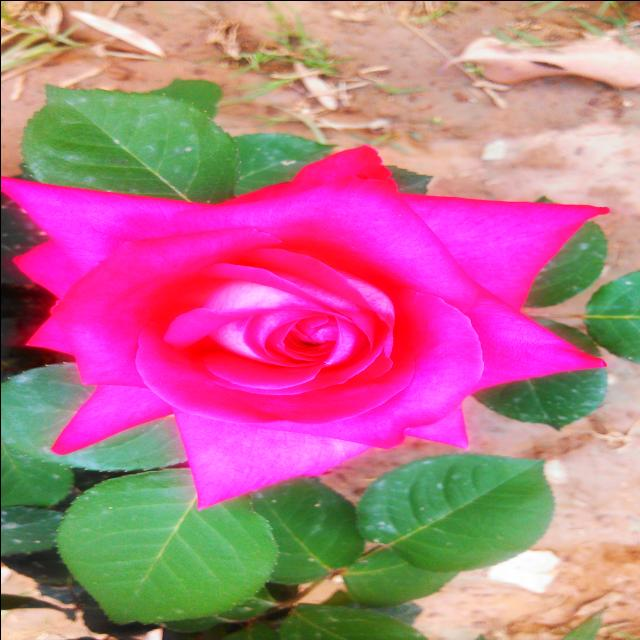rose: (0, 149, 599, 501)
